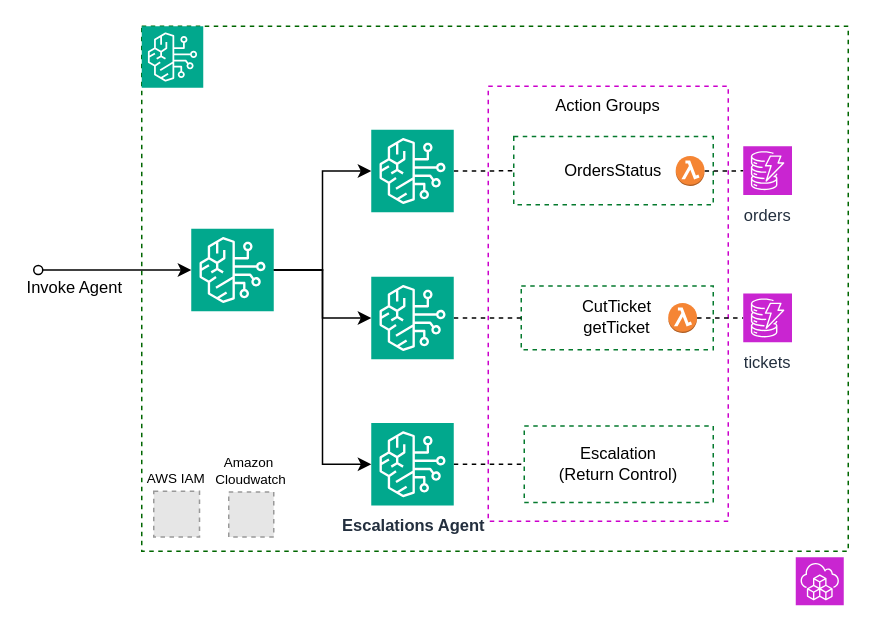
Some shapes in this 875 by 632 pixel diagram are drawn without their labels. Grey dashed boxes stand in for pictures. The shapes that lost their labels are listed below. From the top down, each one's centre as x and y in pixels, then its label:
At pixel 171 56: "Amazon Bedrock Multi Agent Collaboration System".
At pixel 412 170: "Order Status".
At pixel 232 269: "Supervisor Agent".
At pixel 412 317: "Orders Support Agent".
At pixel 819 580: "AWS Cloud Development Kit".
